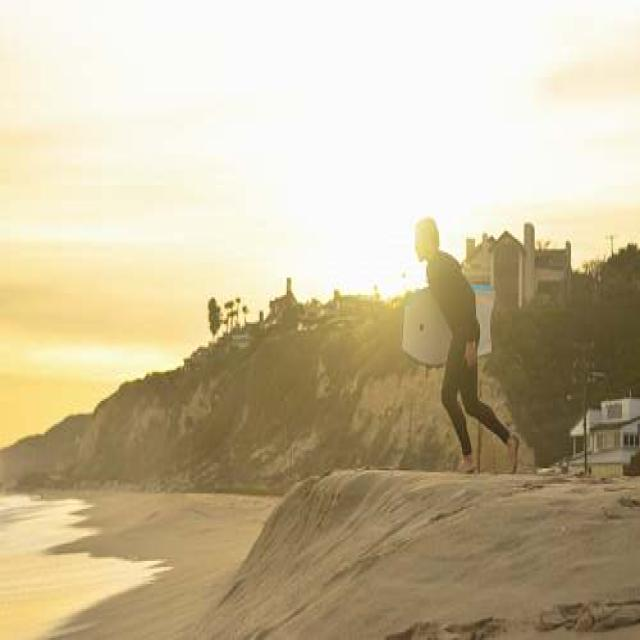running: (412, 213, 522, 479)
